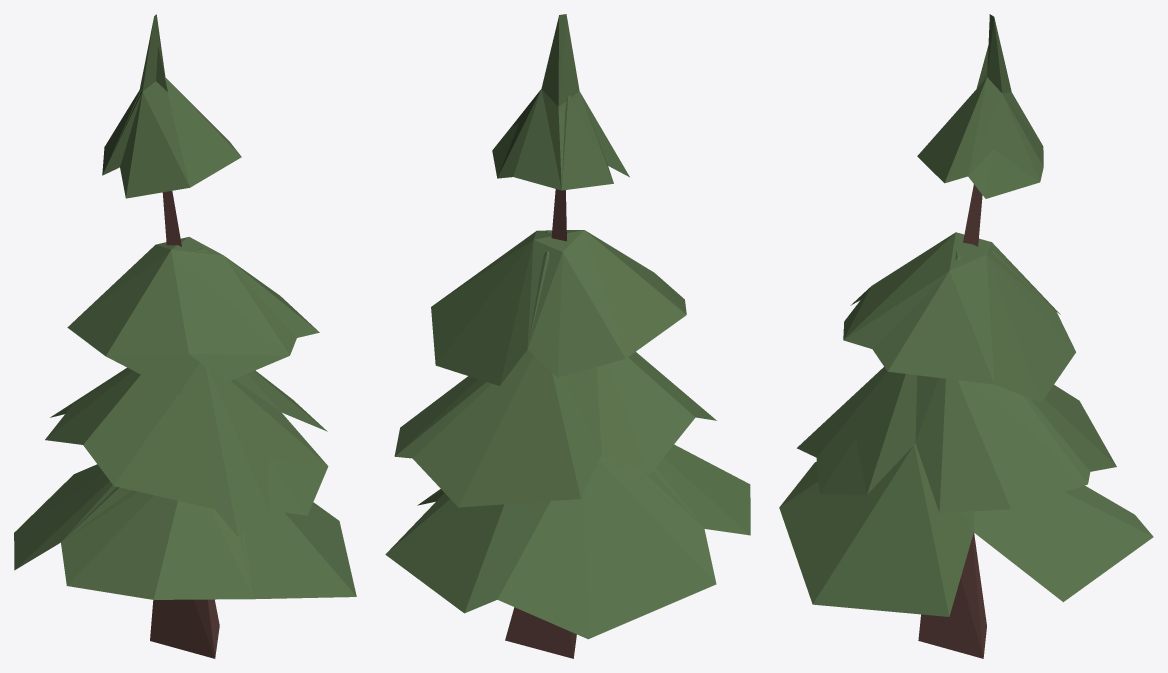
The model's file is PineTree_2.lod3.glb.
3 views of the same model, side by side, from view 1: azimuth 30°, elevation 25°; view 2: azimuth 150°, elevation 25°; view 3: azimuth 270°, elevation 25° (orthographic). The views are drawn at different scales.
Parts seen in each view (by area): view 1: PineTree_2; view 2: PineTree_2; view 3: PineTree_2.
Part boxes in pixels (bbox=[...]): PineTree_2: bbox=[14, 14, 356, 658]; PineTree_2: bbox=[385, 14, 750, 658]; PineTree_2: bbox=[779, 14, 1153, 658].
Bounding box in the file's own units: 1.84 × 3.56 × 1.97.
